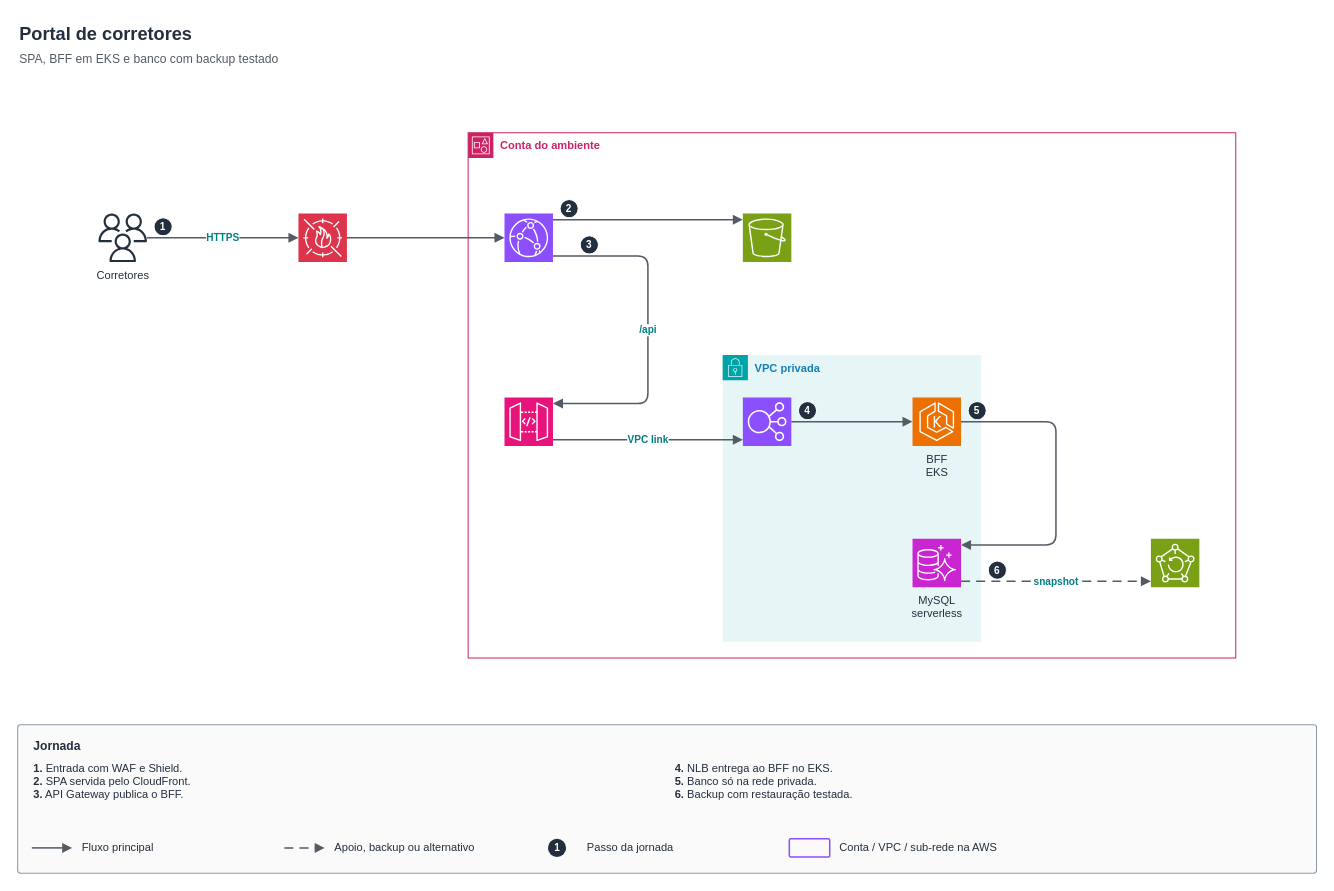
Image size: 1334x891. Some labels were removed from this diagram. The centre of each missing label's shape, as x and y in pixels:
"API Gateway (Terraform)" belongs at point 528,421.
"AWS Backup conta de log" belongs at point 1174,562.
"AWS WAF + Shield" belongs at point 322,237.
"CloudFront" belongs at point 528,237.
"NLB" belongs at point 766,421.
"S3 front-end" belongs at point 766,237.
